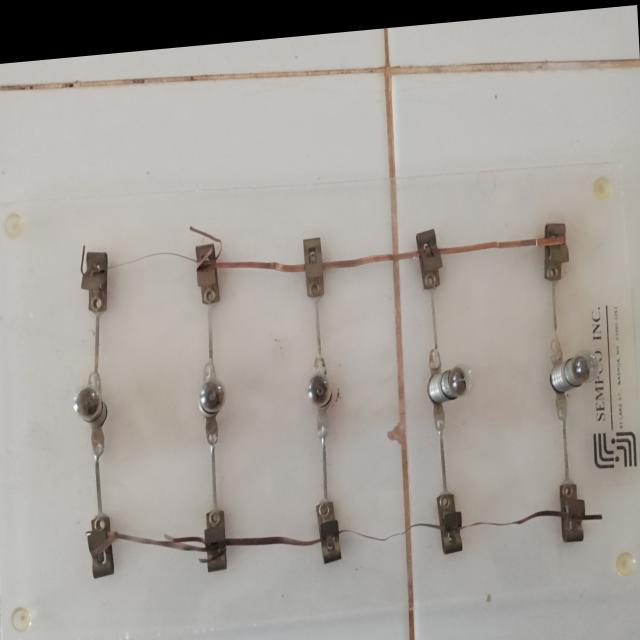Set of Resistors and Bulbs: (45, 178, 622, 612)
